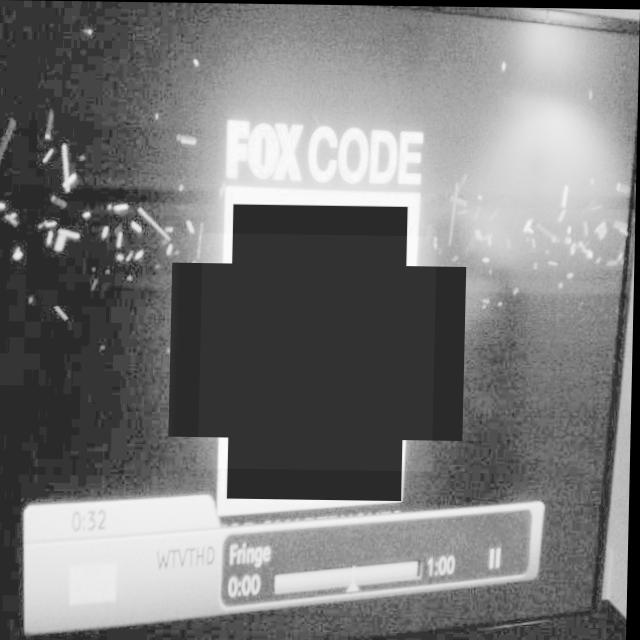qr_code: (200, 232, 438, 470)
